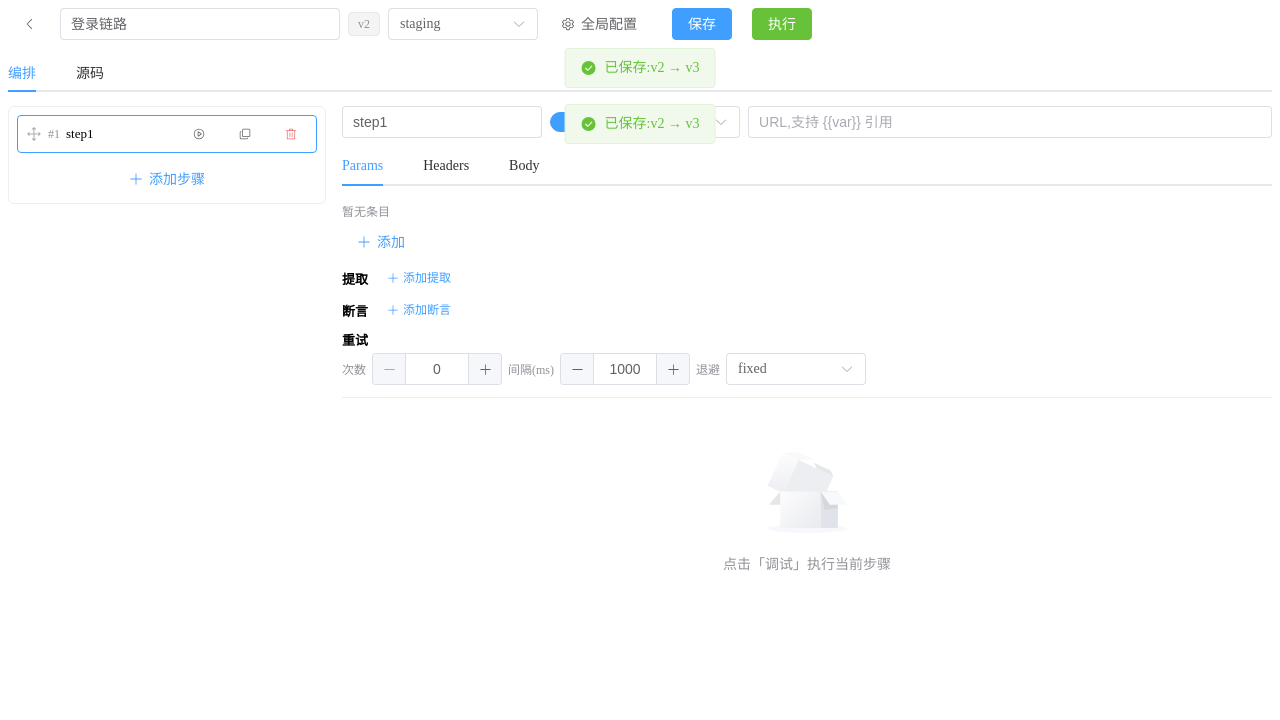
Test: CaseDetailView › 单步调试:先保存脏改动再调同步端点,结果渲染进调试面板
Note: 先弄脏:调试端点执行已保存版本,脏改动必须先落库
Type "https://api.example.com/now" into the field with placeholder "URL,支持 {{var}} 引用". click: (1010, 122)
box: [759,107,1261,137]
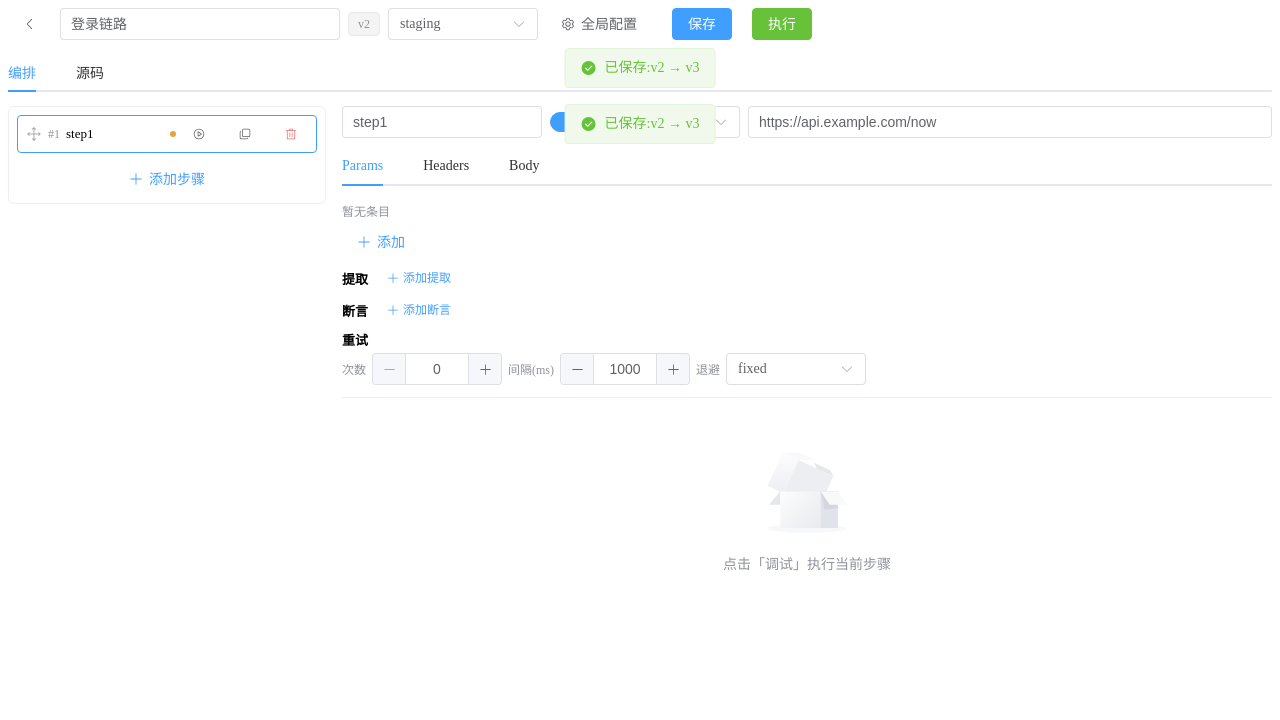
Click the button with class "op-debug". click: (199, 134)
box: [182,122,216,146]
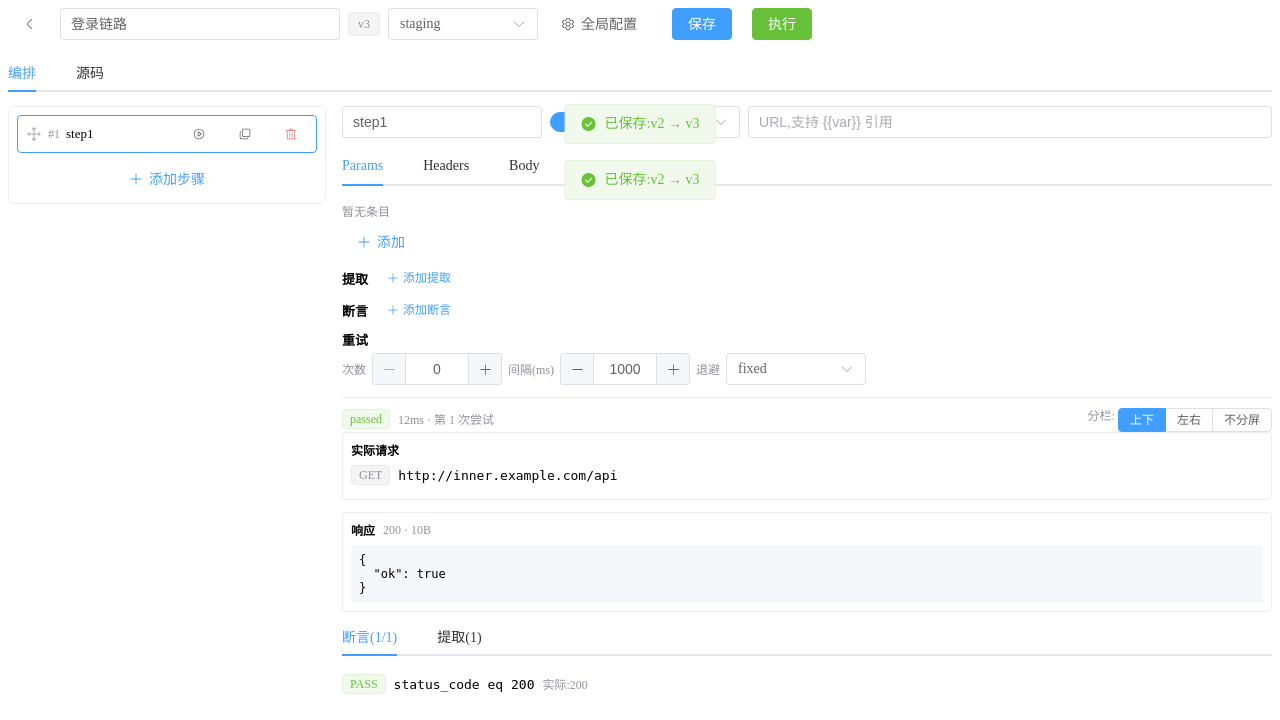
Expected: the element with class "debug-panel" shows "passed", [350,412,382,426]
